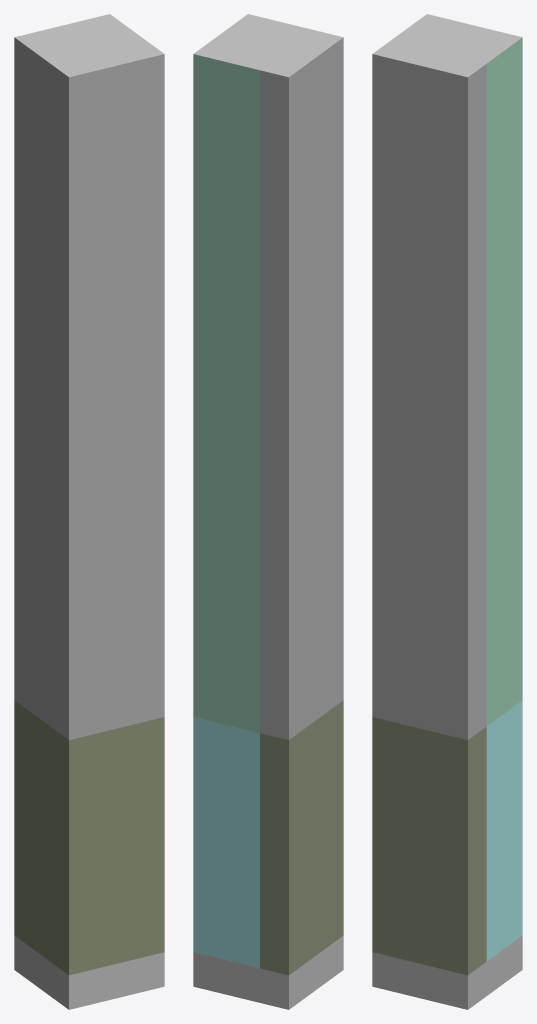
Rendered from SM_PillarCorner_A.fbx.
3 renders of one model, left to right at view 1: azimuth 30°, elevation 25°; view 2: azimuth 150°, elevation 25°; view 3: azimuth 330°, elevation 25°, orthographic.
Visible parts, largest first — view 1: SM_PillarCorner_A; view 2: SM_PillarCorner_A; view 3: SM_PillarCorner_A.
Boxes of the visible parts, x1,y1,x2,y2 form: SM_PillarCorner_A: (14, 14, 164, 1009); SM_PillarCorner_A: (193, 14, 343, 1009); SM_PillarCorner_A: (372, 14, 522, 1009).
Bounding box in the file's own units: 35.89 × 335 × 35.6.
